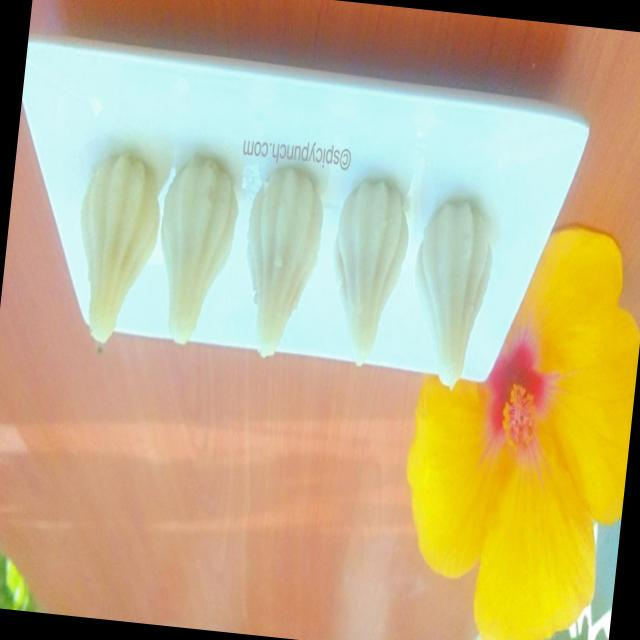modak: (89, 150, 478, 375)
